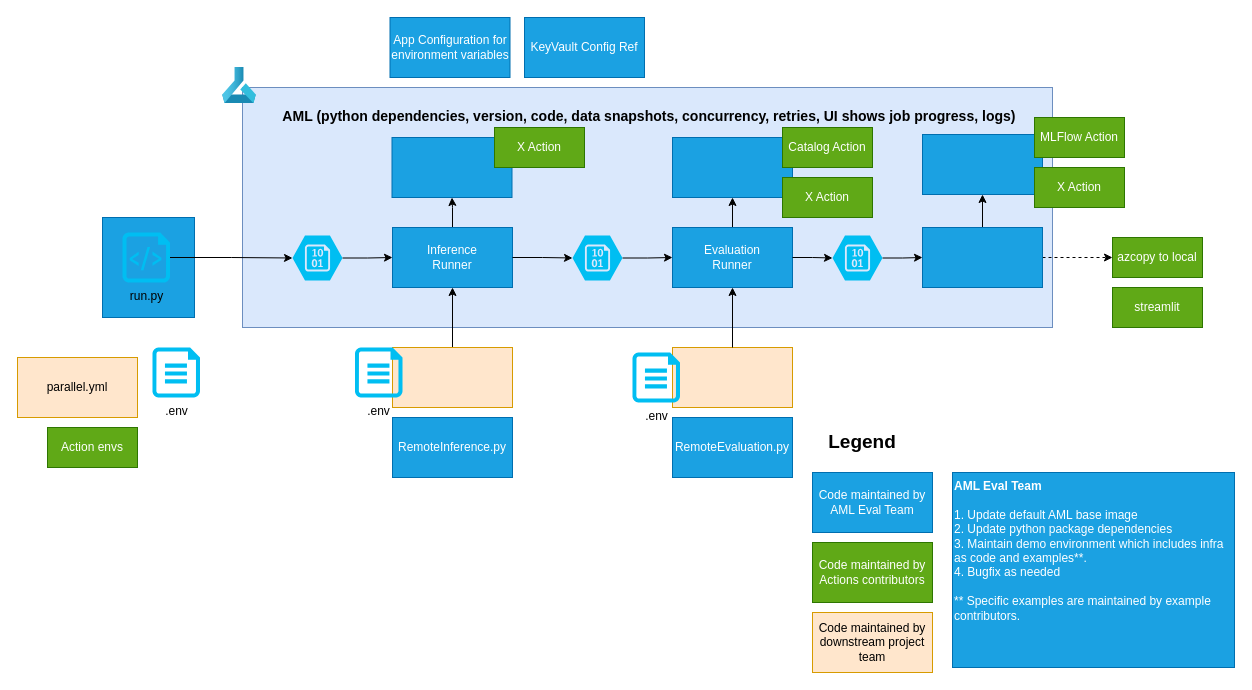
This 1252x690 diagram has some shape labels left out. The centre of each missing label's shape, as x and y in pixels:
"Custom Evaluation Module + Eval.py" belongs at (732,377).
"Custom Inference Module + Inference.py" belongs at (452,377).
"Evaluation results" belongs at (857,257).
"Ground Truths" belongs at (317,257).
"Inference results" belongs at (597,257).
"Post Eval Actions" belongs at (732,167).
"Post Inference Actions" belongs at (451,167).
"Post Summarization Actions" belongs at (982,164).
"Summarization Runner" belongs at (982,257).
